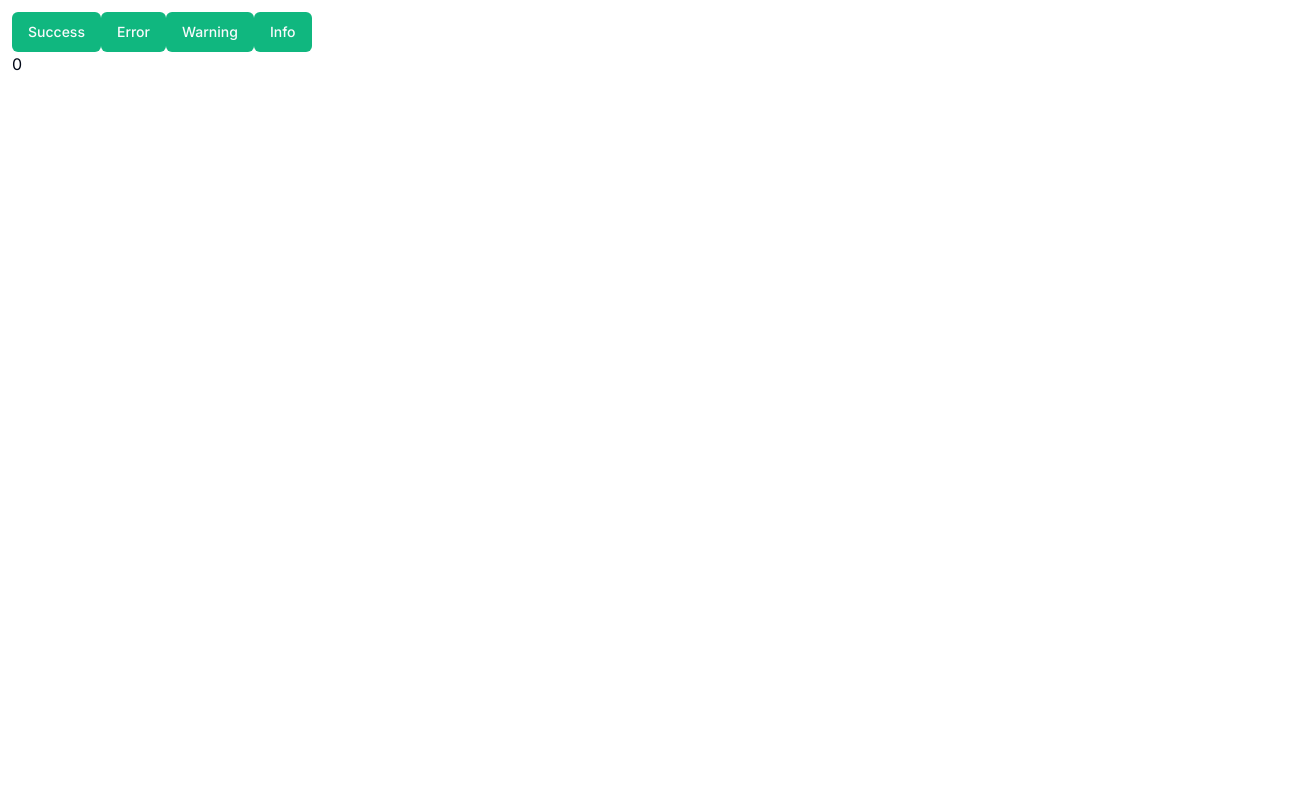
Test: Toast › Toast Behavior › should allow manual dismissal
Click the button "Success" at (56, 32), box [12, 12, 101, 52]
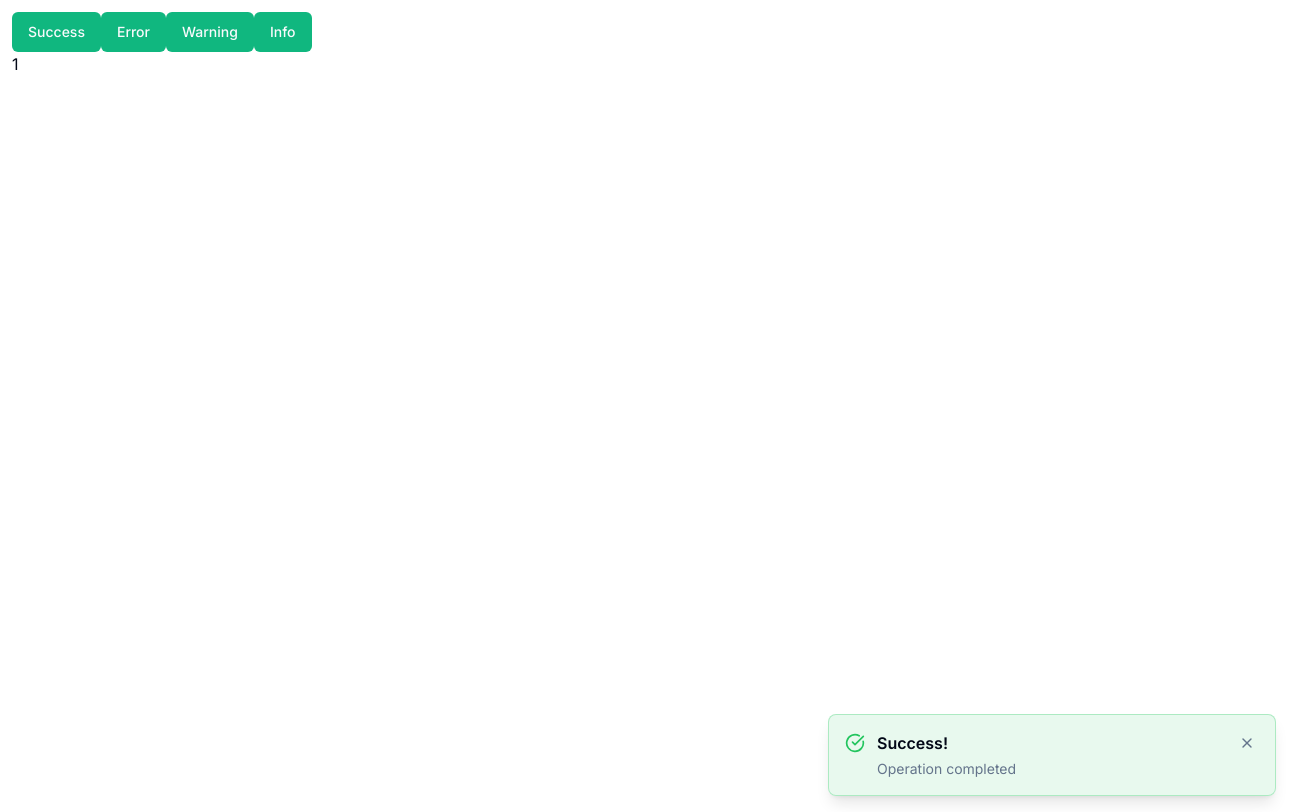
Expected: the text "Success!" is shown, [877, 733, 948, 753]
Note: Click dismiss button
Click the button named "dismiss" at (1247, 743), box [1235, 731, 1259, 755]
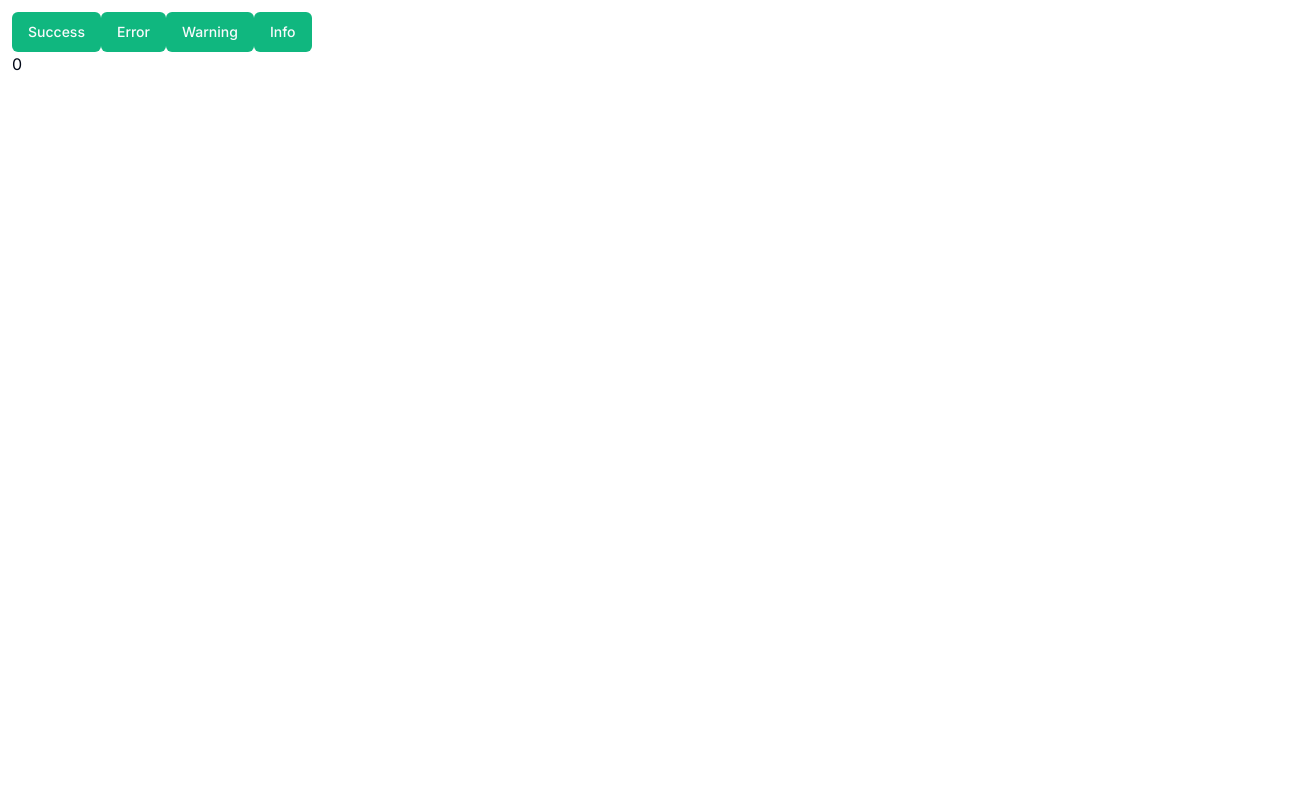
Expected: the text "Success!" is gone
